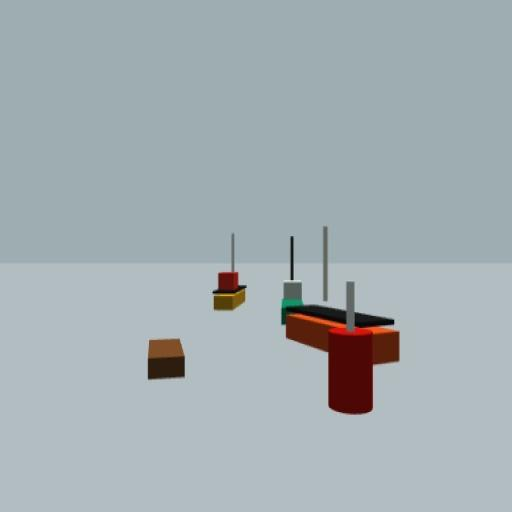debris_container: (147, 337, 186, 381)
floating_obstacle: (328, 279, 374, 416)
vessel: (211, 233, 248, 313)
